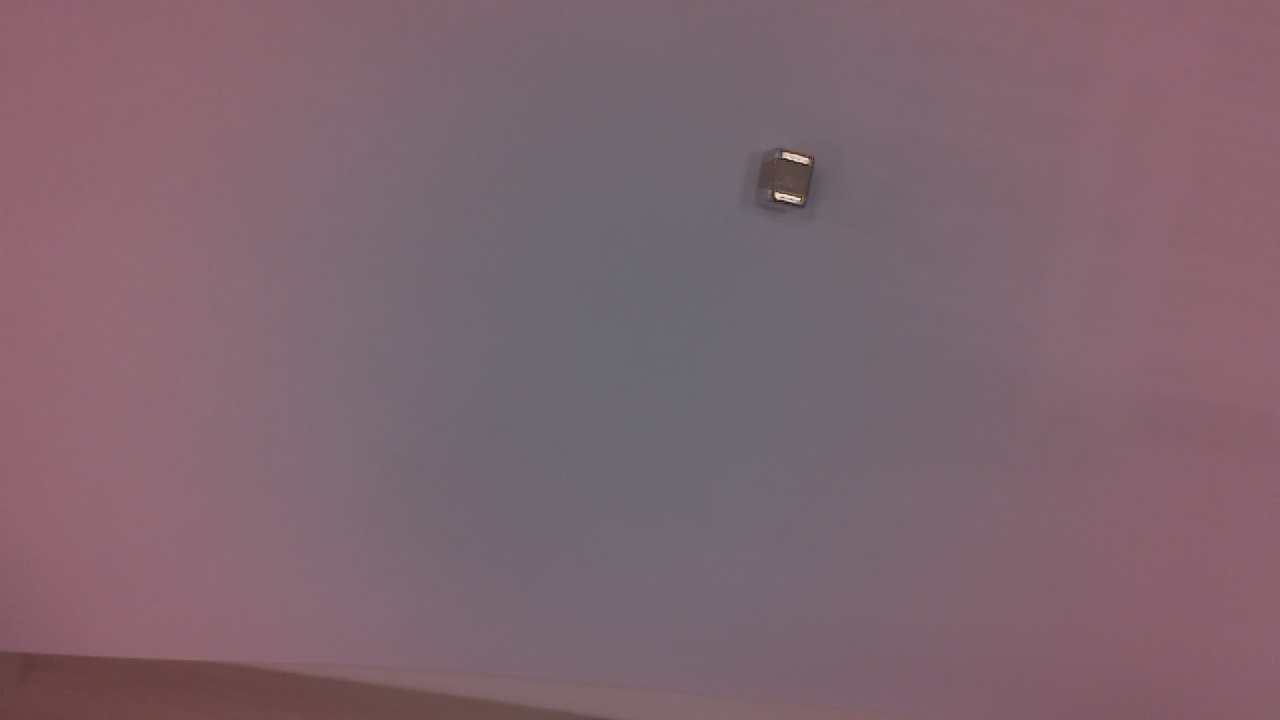Condensator: (753, 148, 826, 225)
